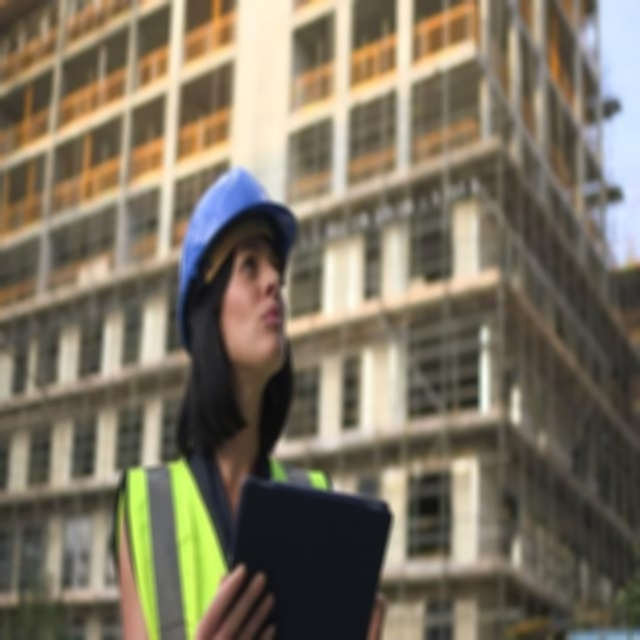Con_Casco: (179, 167, 300, 414)
